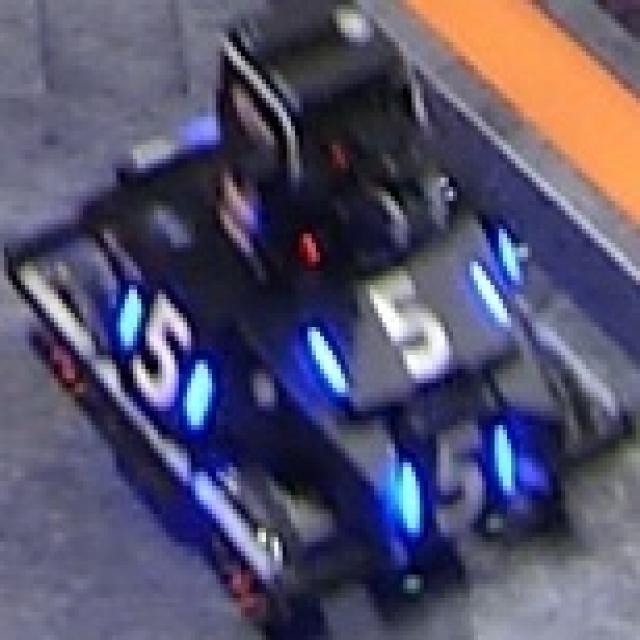B5: (306, 257, 509, 397), (90, 266, 226, 448), (382, 409, 524, 544)
